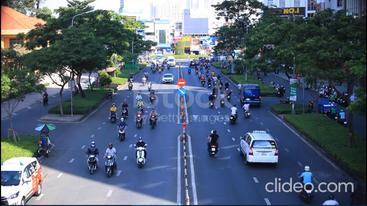car: (0, 152, 55, 205), (235, 128, 283, 170), (234, 78, 265, 113)
motorcycle: (291, 170, 319, 205), (130, 141, 151, 169), (205, 130, 221, 162), (84, 146, 99, 177), (103, 150, 118, 180), (147, 112, 159, 131), (107, 106, 119, 125), (116, 122, 127, 142), (228, 108, 240, 126), (118, 104, 131, 120), (134, 111, 144, 130), (242, 105, 251, 120)
